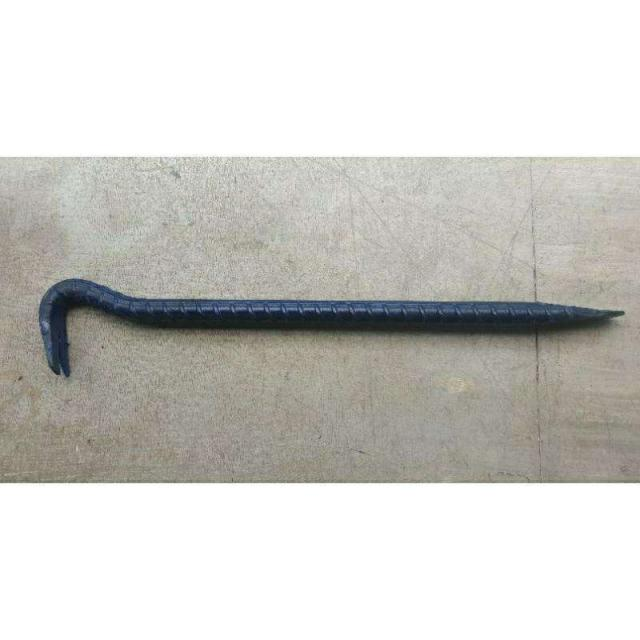Linggis: (40, 276, 624, 382)
